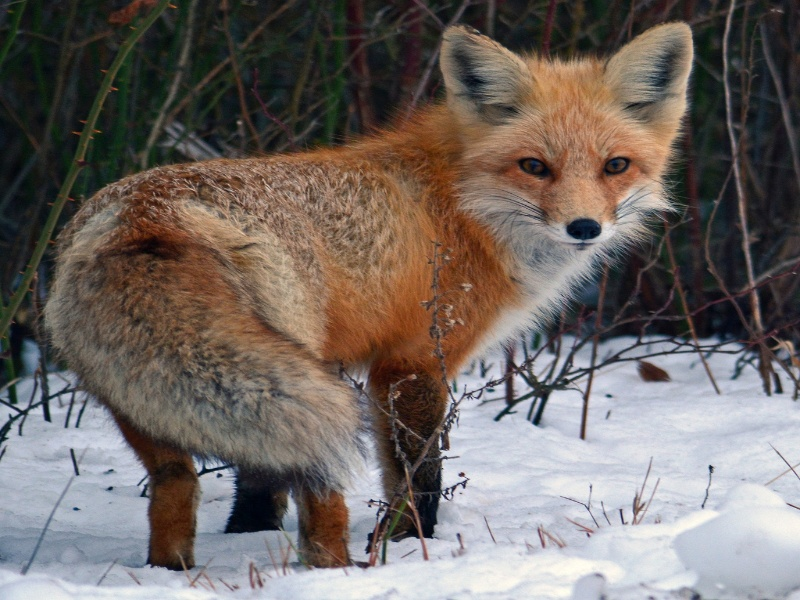fox: (45, 13, 700, 580)
